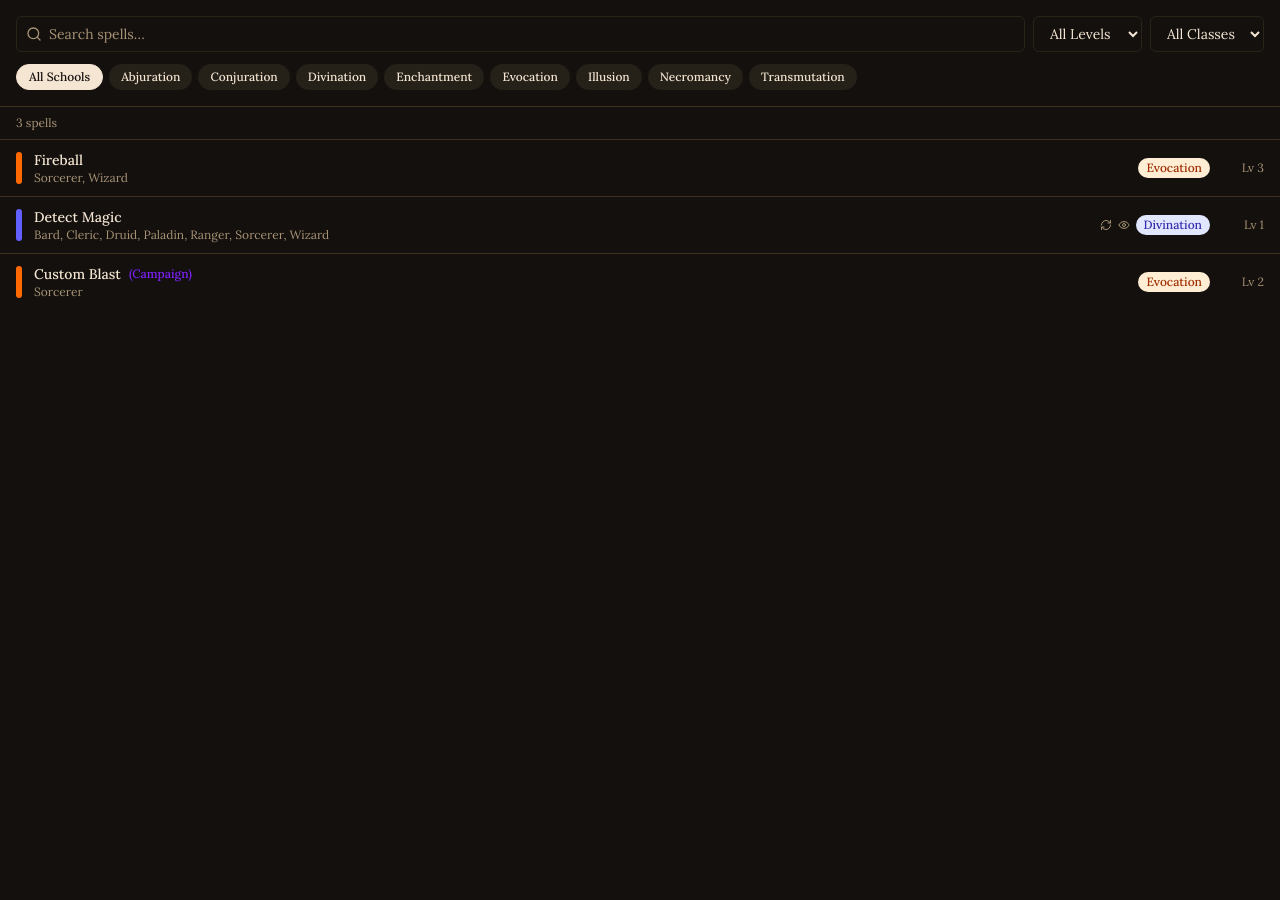
Scenario: SpellsTab › shows Edit Override button for campaign spells when GM
Expected: the text "Custom Blast" is shown, [34, 264, 121, 284]
Step 1. Click the button with test id "spell-row-3" → {"x": 77, "y": 274}, box [0, 254, 1279, 310]
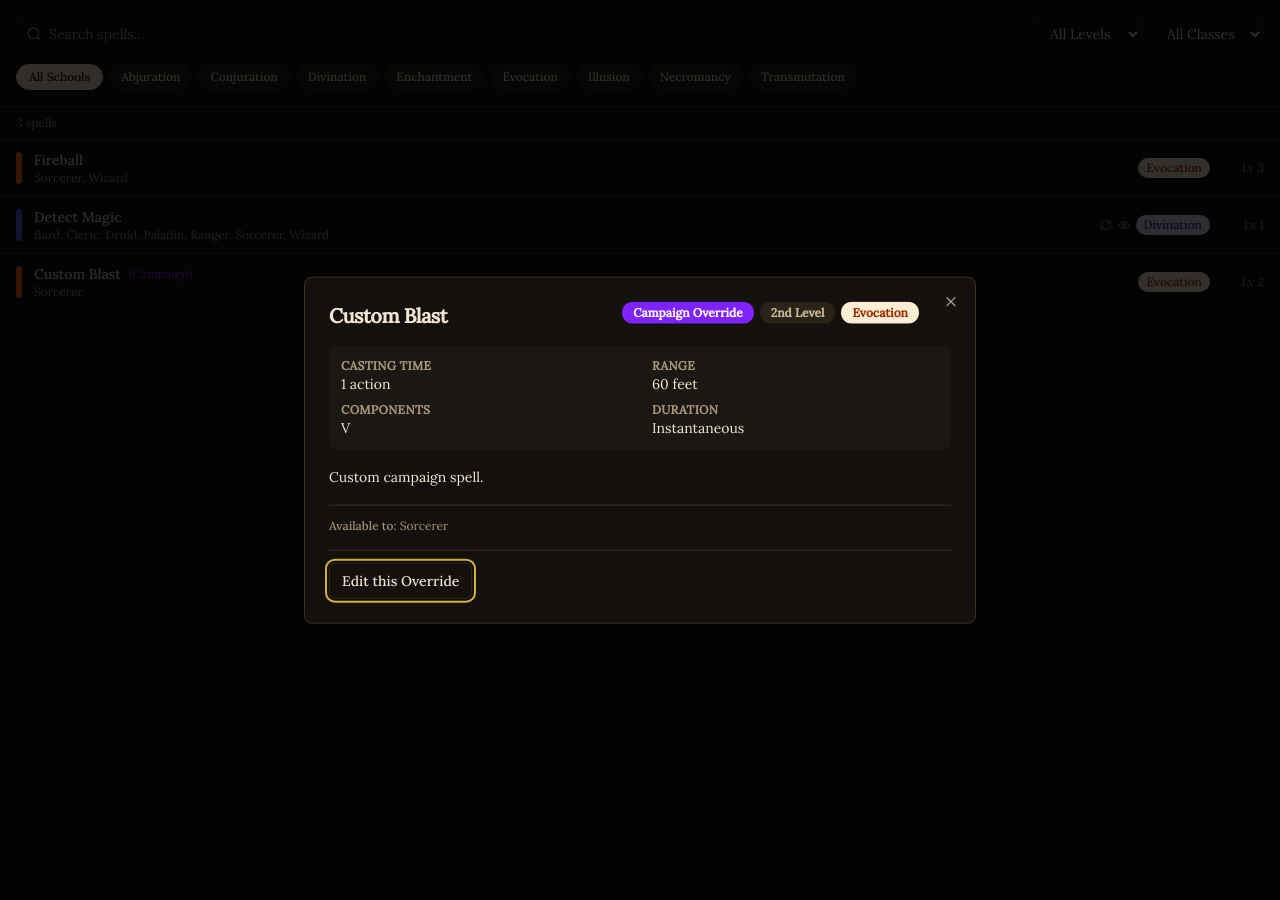
Now the button with test id "edit-override-btn" is shown, box [329, 562, 472, 598]
